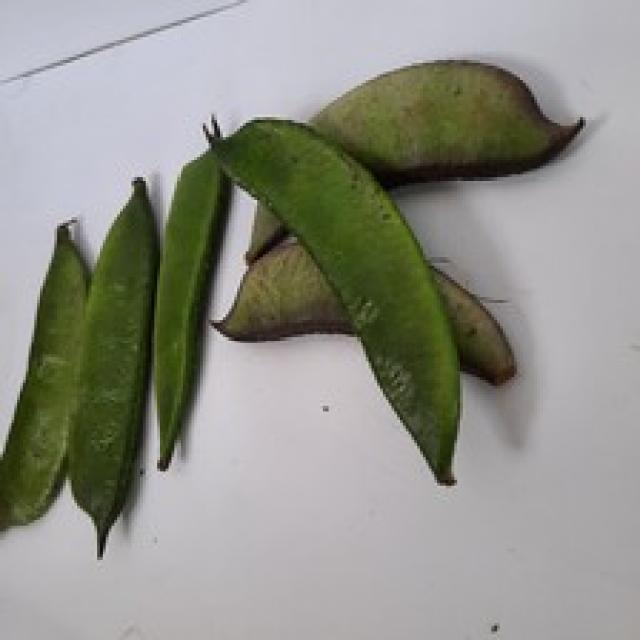Bean: (0, 54, 583, 557), (200, 114, 460, 483), (66, 174, 160, 557), (306, 54, 583, 183), (0, 217, 89, 532), (152, 140, 232, 471)
